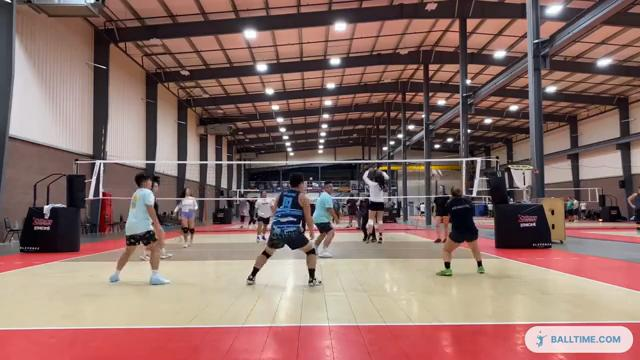muro: (362, 164, 388, 248)
